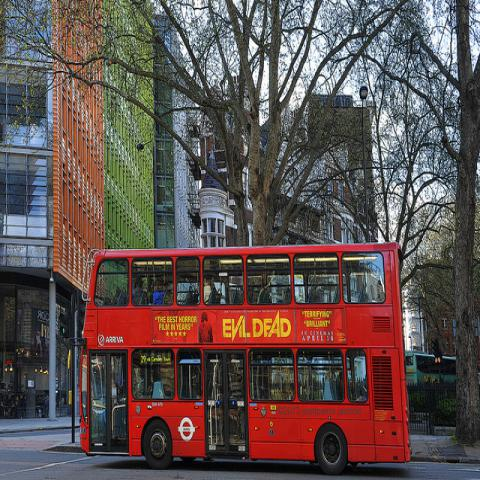bus: (78, 243, 412, 474)
